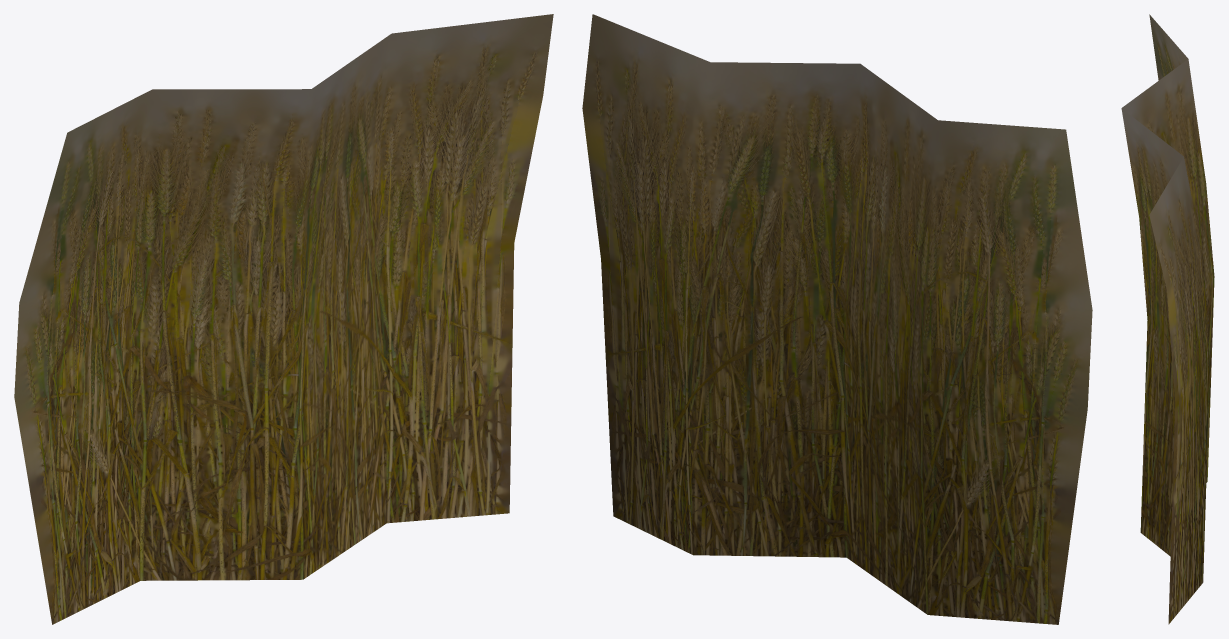
File: Plant.fbx
The picture shows the model from 3 angles, left to right: view 1: azimuth 30°, elevation 25°; view 2: azimuth 150°, elevation 25°; view 3: azimuth 270°, elevation 25°; orthographic projection. The views are drawn at different scales.
Visible parts, largest first — view 1: Grass_Tall; view 2: Grass_Tall; view 3: Grass_Tall.
Part boxes in pixels (x1,y1,x2,y2): Grass_Tall: [14, 14, 553, 624]; Grass_Tall: [582, 14, 1092, 624]; Grass_Tall: [1121, 14, 1214, 624].
Size of the model in its own units: 178 by 162 by 32.33.
